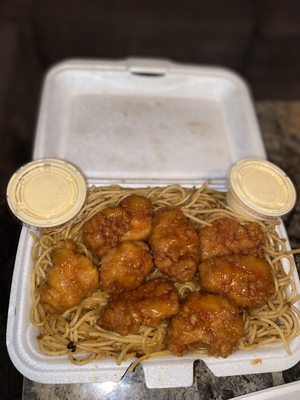salad: (221, 157, 300, 315)
